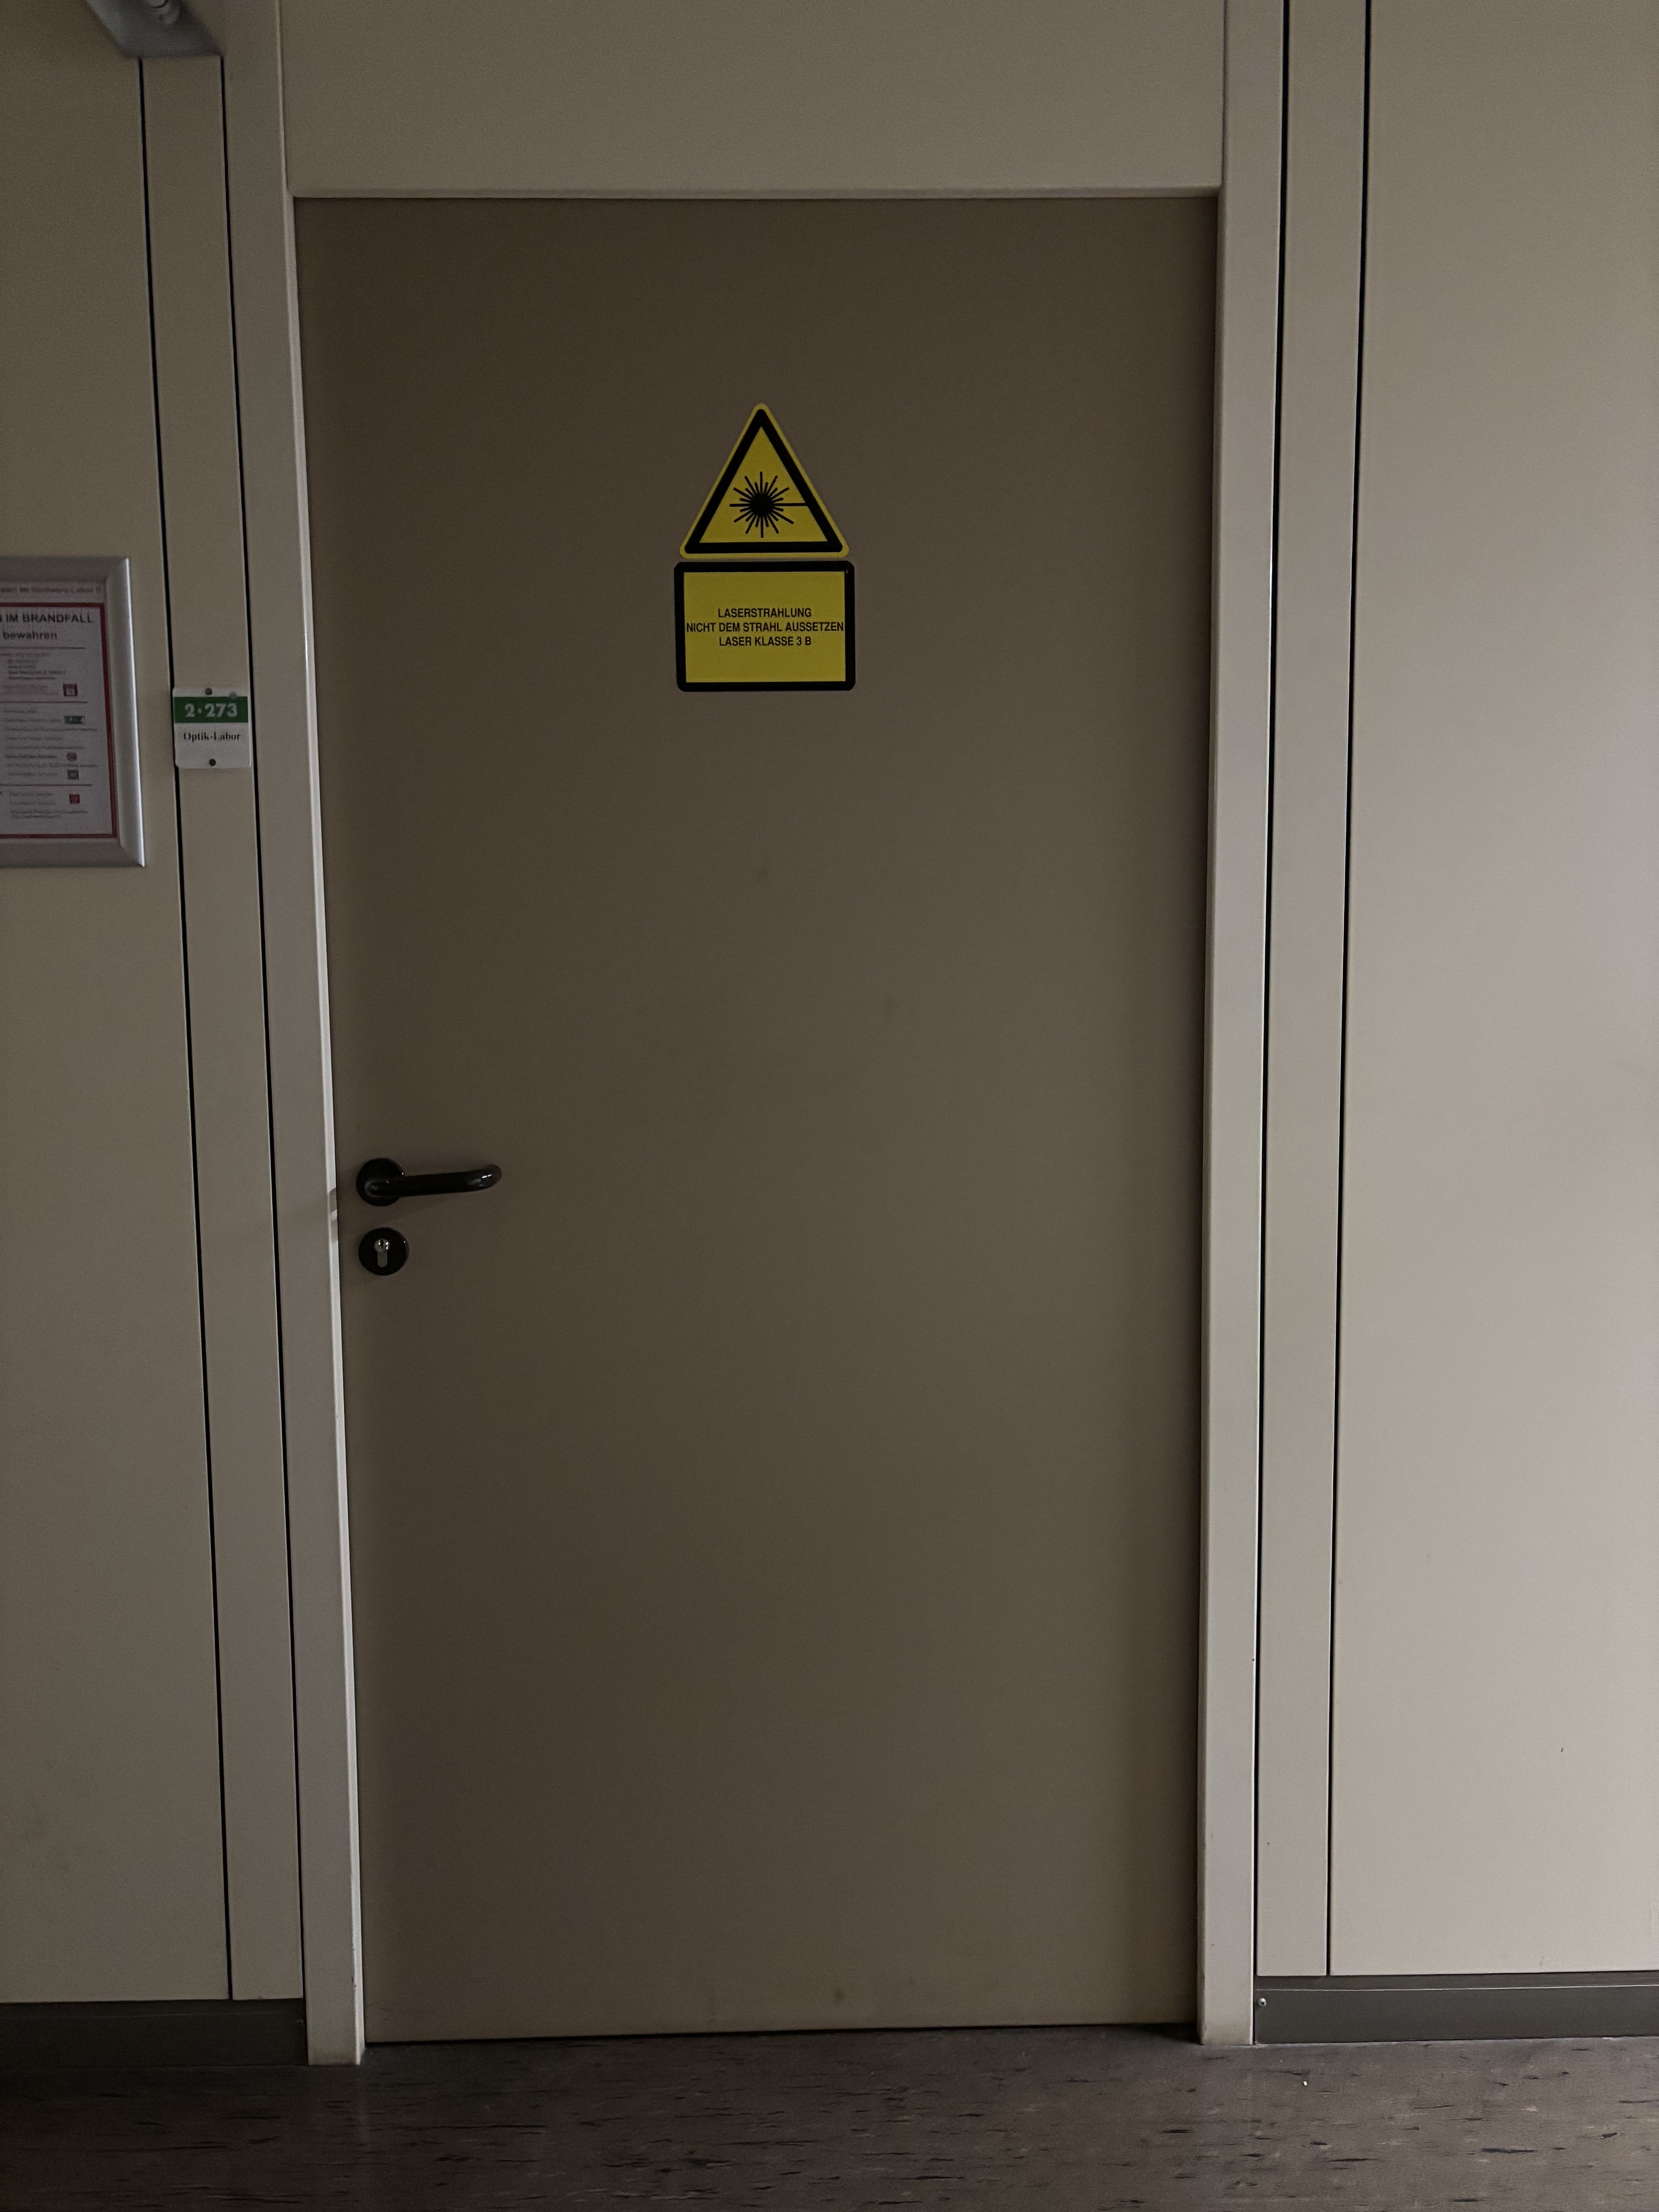door: (267, 171, 1225, 2047)
handle: (350, 1151, 507, 1284), (352, 1153, 507, 1212)
